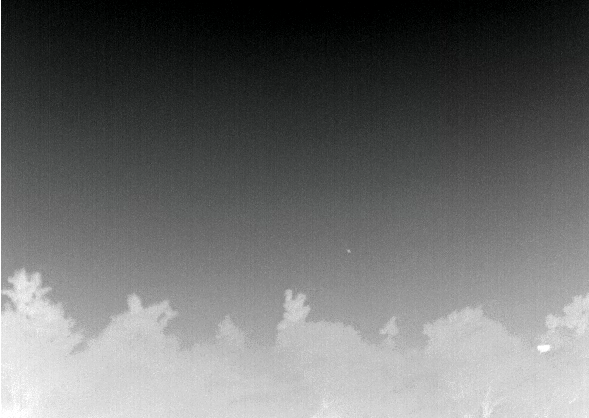dim target: (345, 246, 352, 253)
